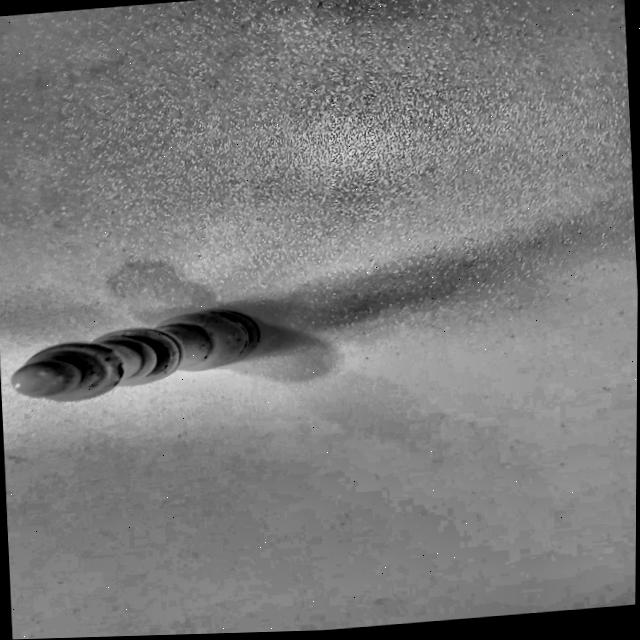white-queen: (0, 269, 326, 450)
